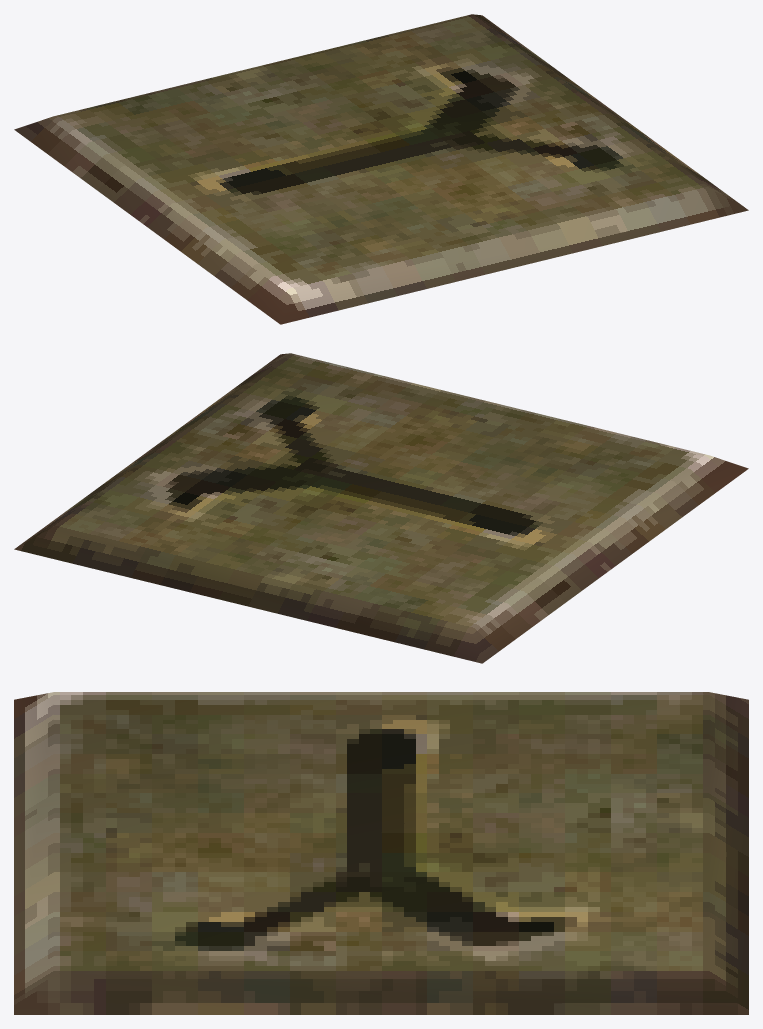
The model's file is EREBOR_RUNE_PZL_EREBOR_PZL_TILE_STATIC36.fbx.
The picture shows the model from 3 angles, top to bottom: view 1: azimuth 30°, elevation 25°; view 2: azimuth 150°, elevation 25°; view 3: azimuth 270°, elevation 25°; orthographic projection. The views are drawn at different scales.
Parts seen in each view (by area): view 1: EREBOR_RUNE_PZL_EREBOR_PZL_TILE_STATIC36; view 2: EREBOR_RUNE_PZL_EREBOR_PZL_TILE_STATIC36; view 3: EREBOR_RUNE_PZL_EREBOR_PZL_TILE_STATIC36.
Part boxes in pixels (x1,y1,x2,y2): EREBOR_RUNE_PZL_EREBOR_PZL_TILE_STATIC36: (14,14,748,324); EREBOR_RUNE_PZL_EREBOR_PZL_TILE_STATIC36: (14,353,748,663); EREBOR_RUNE_PZL_EREBOR_PZL_TILE_STATIC36: (14,692,748,1014).
Bounding box in the file's own units: 10240 × 370 × 10093.
1 material, 1 textured.
